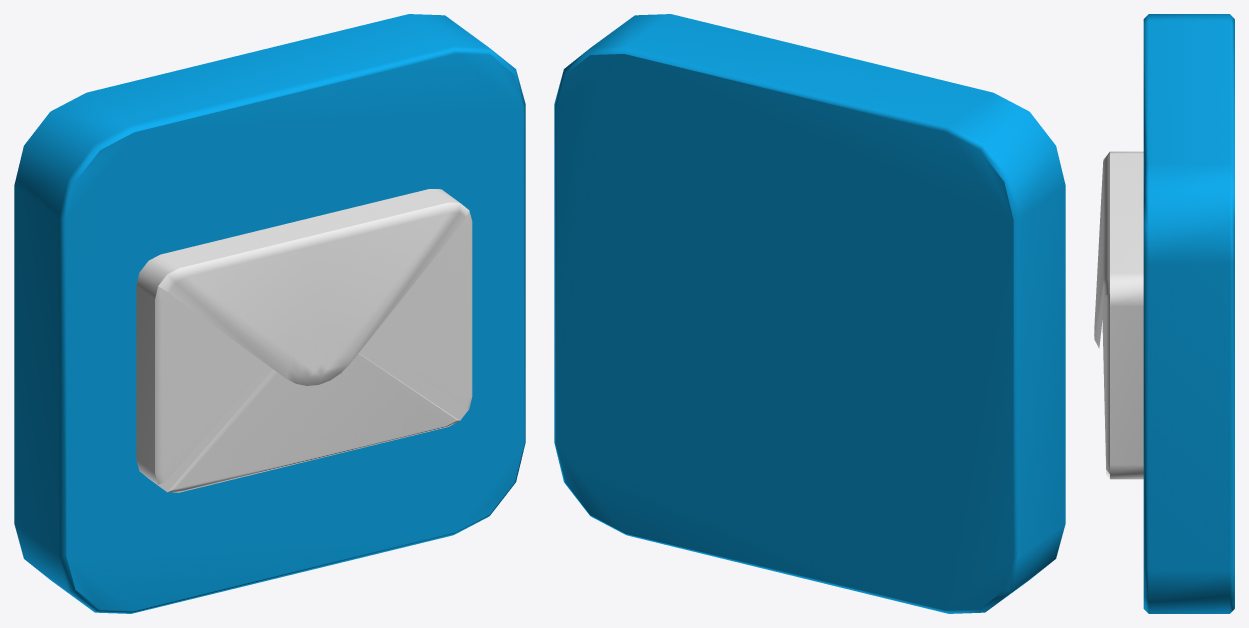
File: Sketchfab_Scene.gltf
The picture shows the model from 3 angles, left to right: view 1: azimuth 30°, elevation 25°; view 2: azimuth 150°, elevation 25°; view 3: azimuth 270°, elevation 25°; orthographic projection. The views are drawn at different scales.
Parts seen in each view (by area): view 1: Mail; view 2: Mail; view 3: Mail.
Boxes of the visible parts, bbox=[...] form: Mail: bbox=[14, 14, 525, 613]; Mail: bbox=[554, 14, 1065, 613]; Mail: bbox=[1094, 14, 1234, 613].
Bounding box in the file's own units: 0.097 × 0.097 × 0.0279.
1 material, 1 textured.
